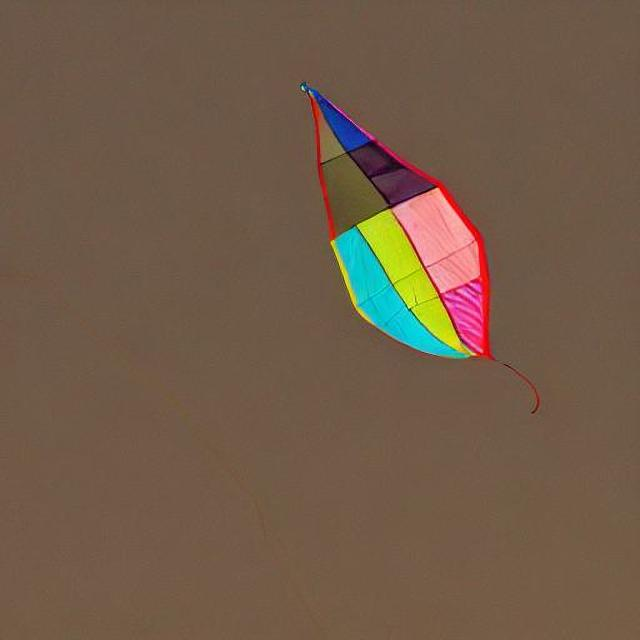floating object: (302, 78, 522, 392)
